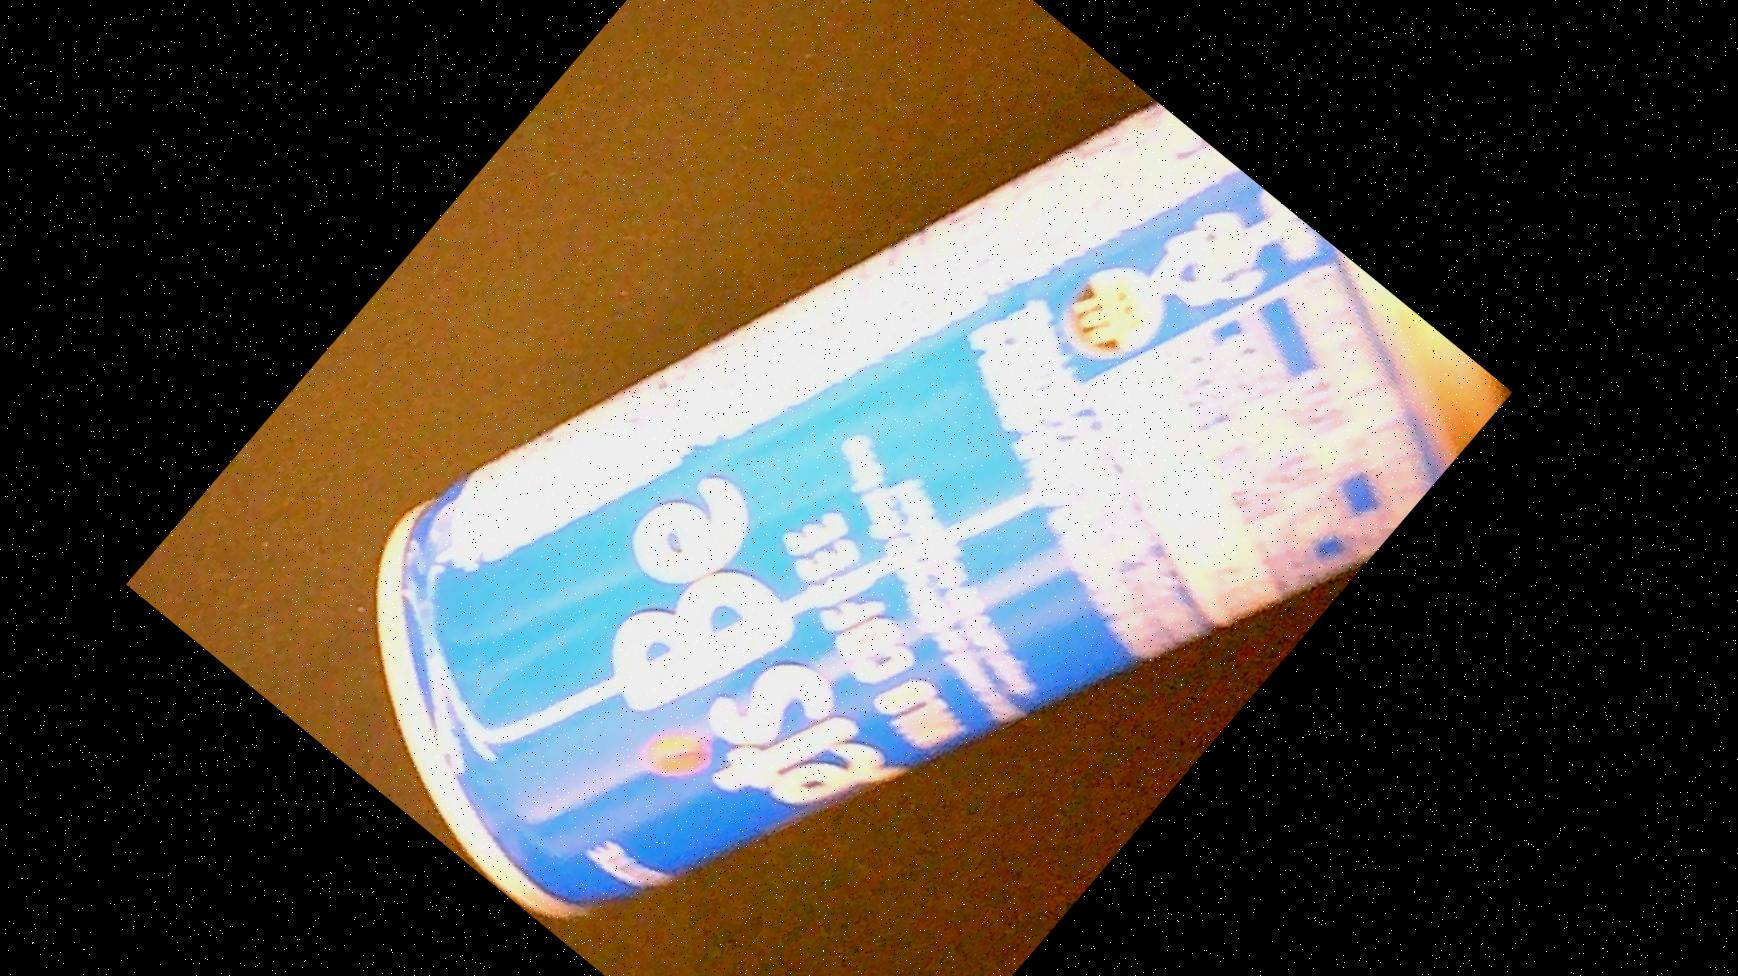letsbe: (244, 0, 1552, 976)
